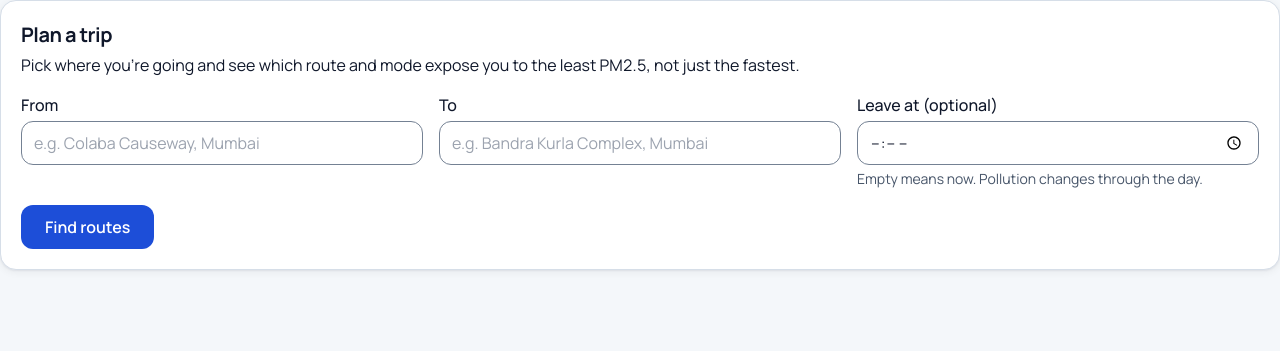
Test case: RoutePlanner › shows a readable alert for GEOCODE_UNAVAILABLE
In the field labelled "From": [222, 143] box [21,121,423,165], type "Nowhere"
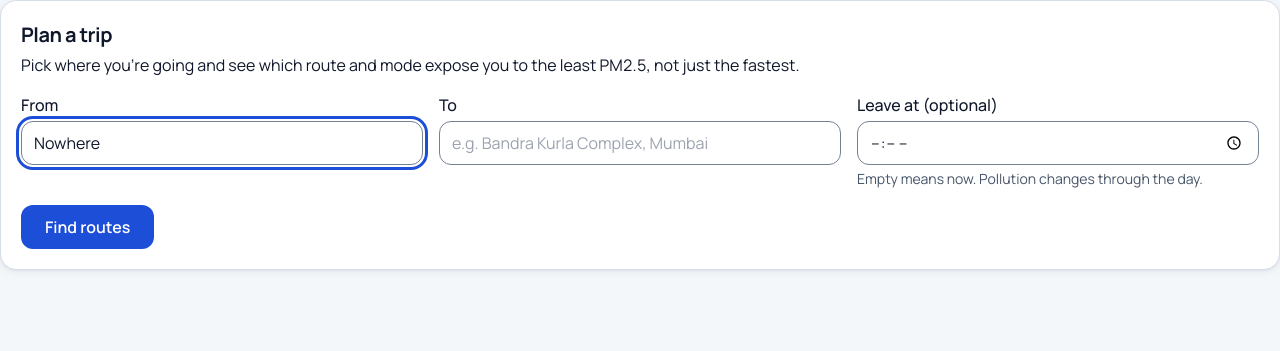
In the field labelled "To": [640, 143] box [439,121,841,165], type "Elsewhere"
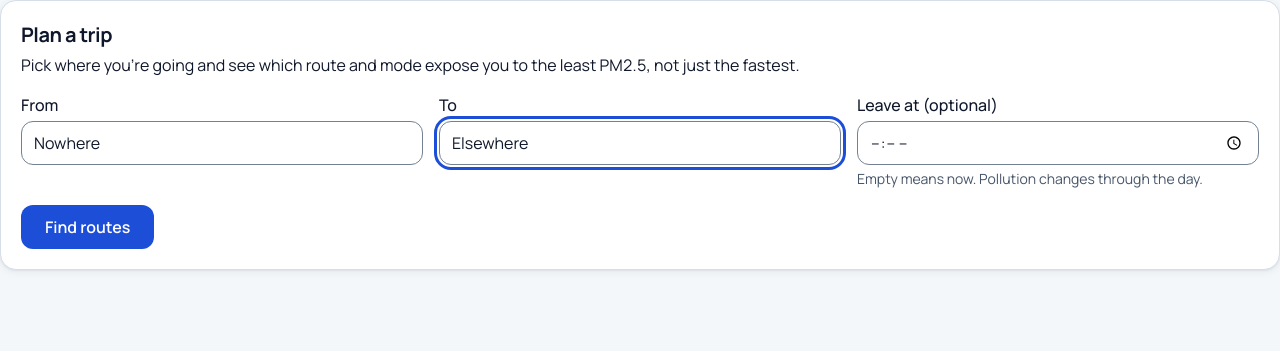
Click the button "Find routes": [88, 227] box [21,205,154,249]
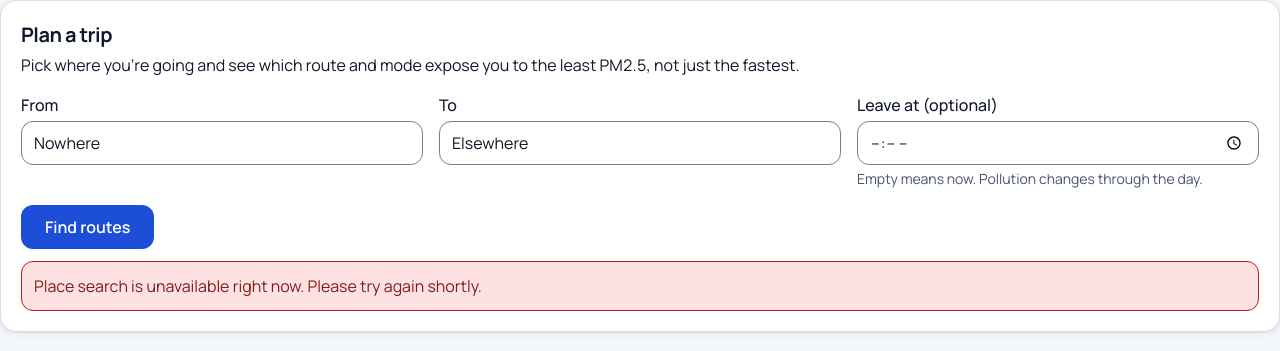
expect the message reads "Place search is unavailable right now. Please try again shortly.": met, box [34,275,482,297]
